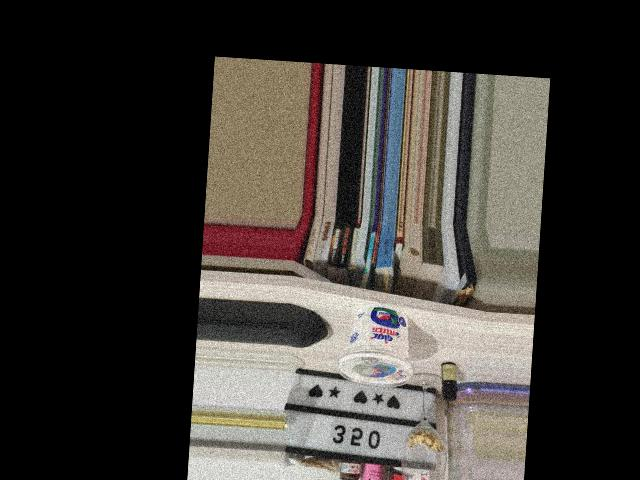cotage: (343, 299, 412, 391)
